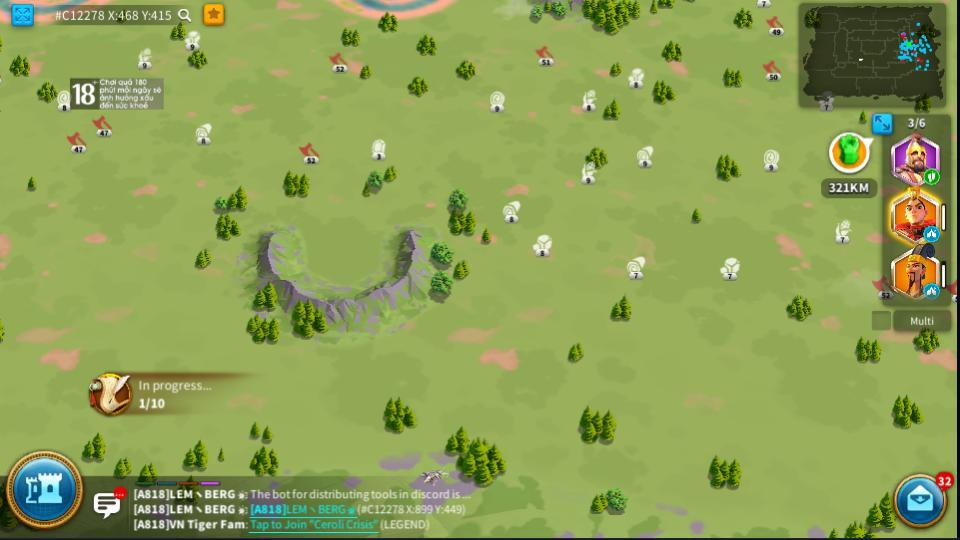gem-z-out: (369, 139, 386, 159)
march_idle: (923, 284, 939, 297), (923, 227, 938, 239)
march_marching: (923, 170, 938, 184)
